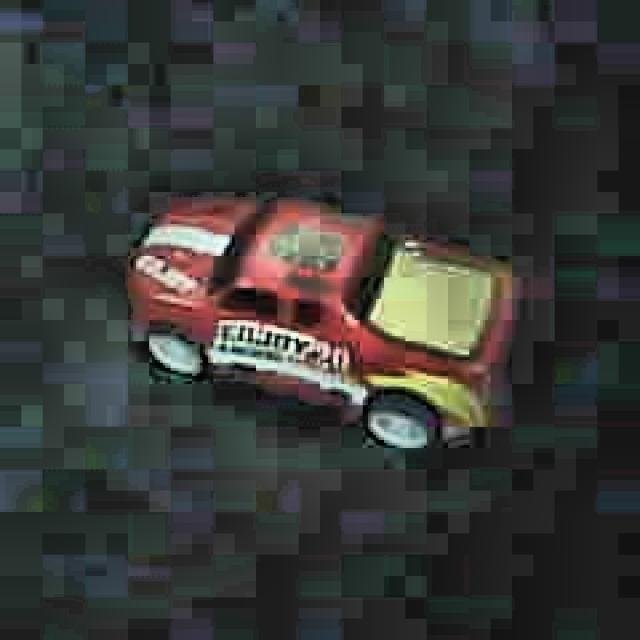car: (116, 180, 526, 467)
